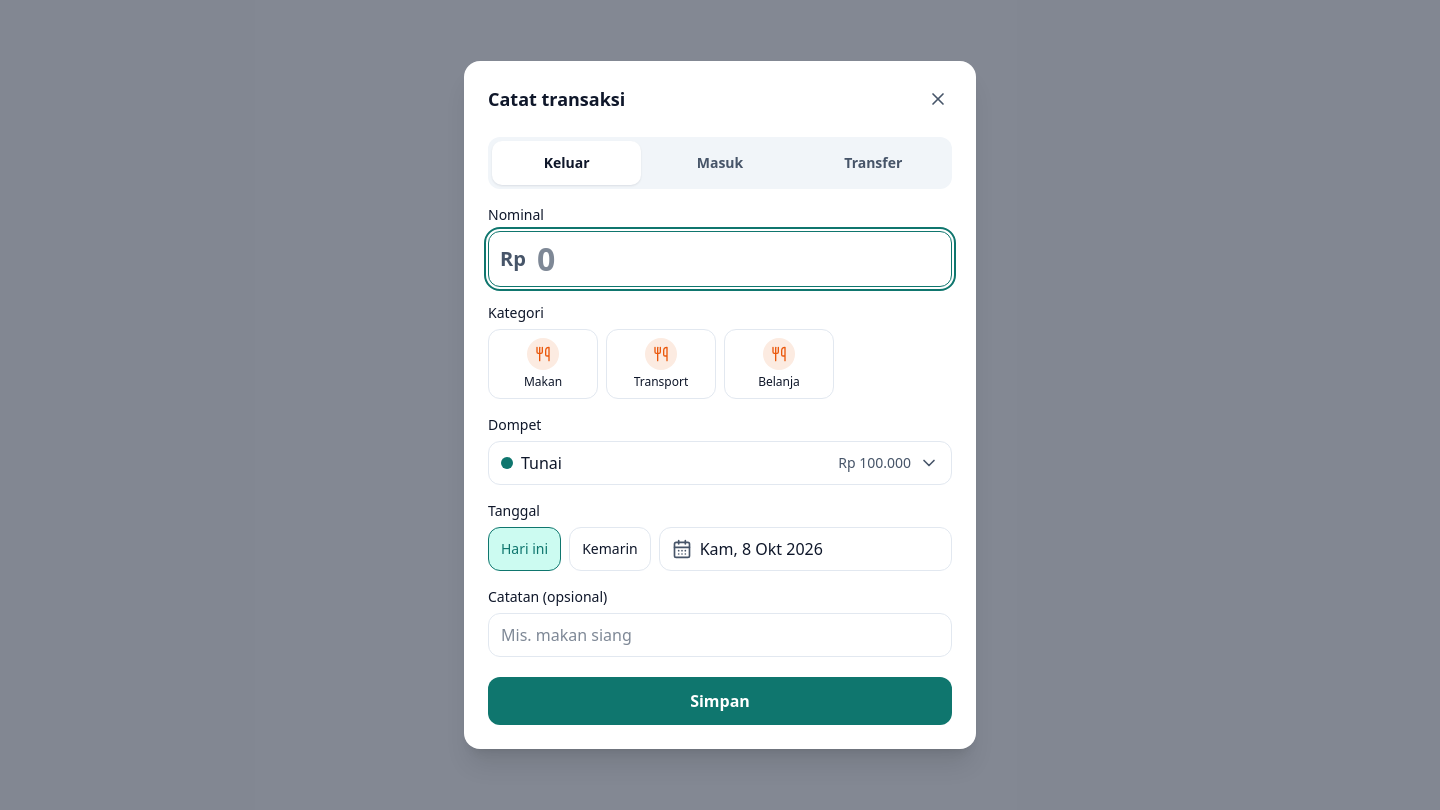
Test case: saran kategori di form transaksi › pilihan manual tidak ditimpa; saran muncul sebagai tombol satu tap
The width and height of the screenshot is (1440, 810).
expect the field labelled "Nominal" is shown: met, box 488,231 -> 952,287
expect the element "Kategori" is shown: met, box 488,303 -> 834,399
Click the radio button labelled "Makan" at (543, 364), box 488,329 -> 598,399
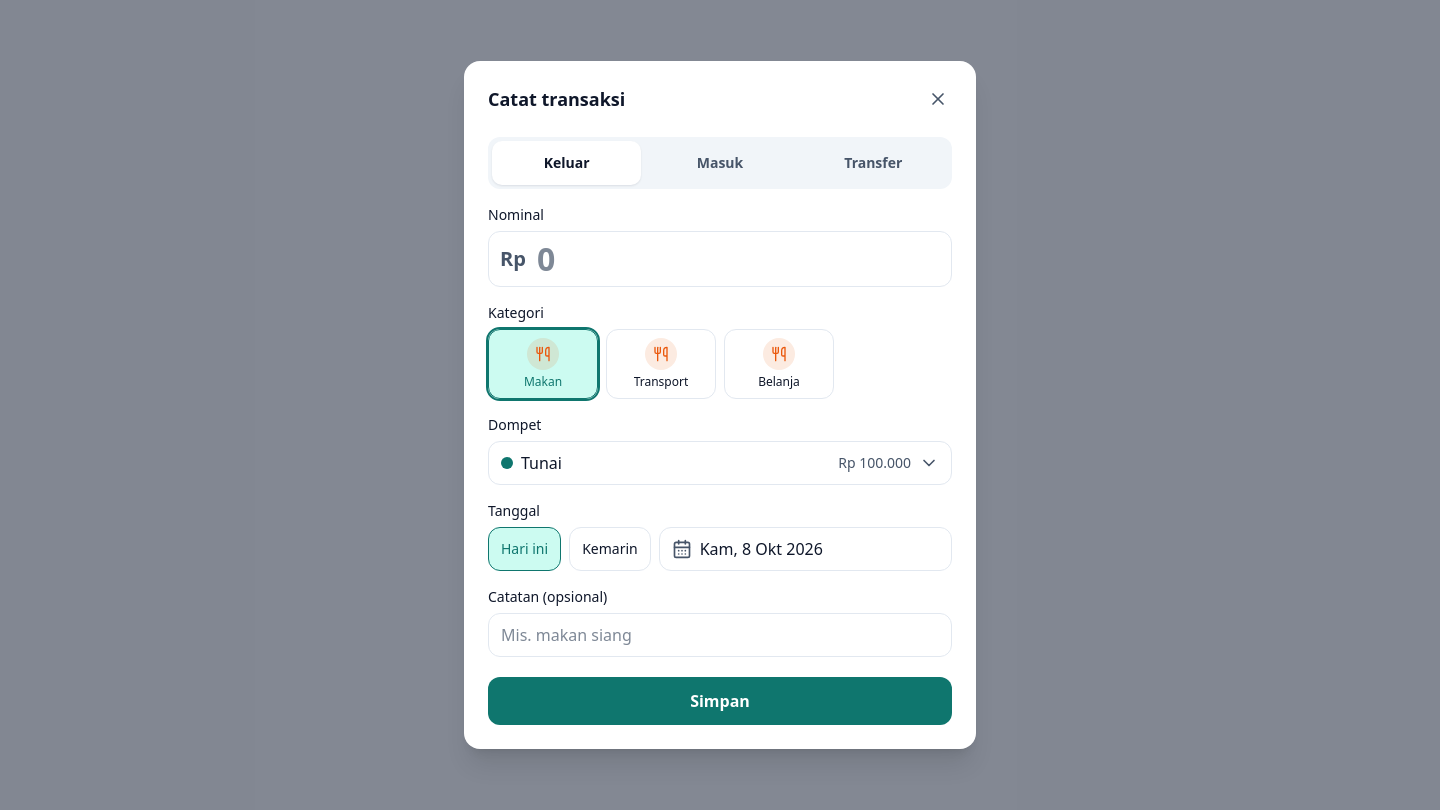
Type "Parkir mall" into the text box labelled "Catatan (opsional)" at (720, 635), box 488,613 -> 952,657
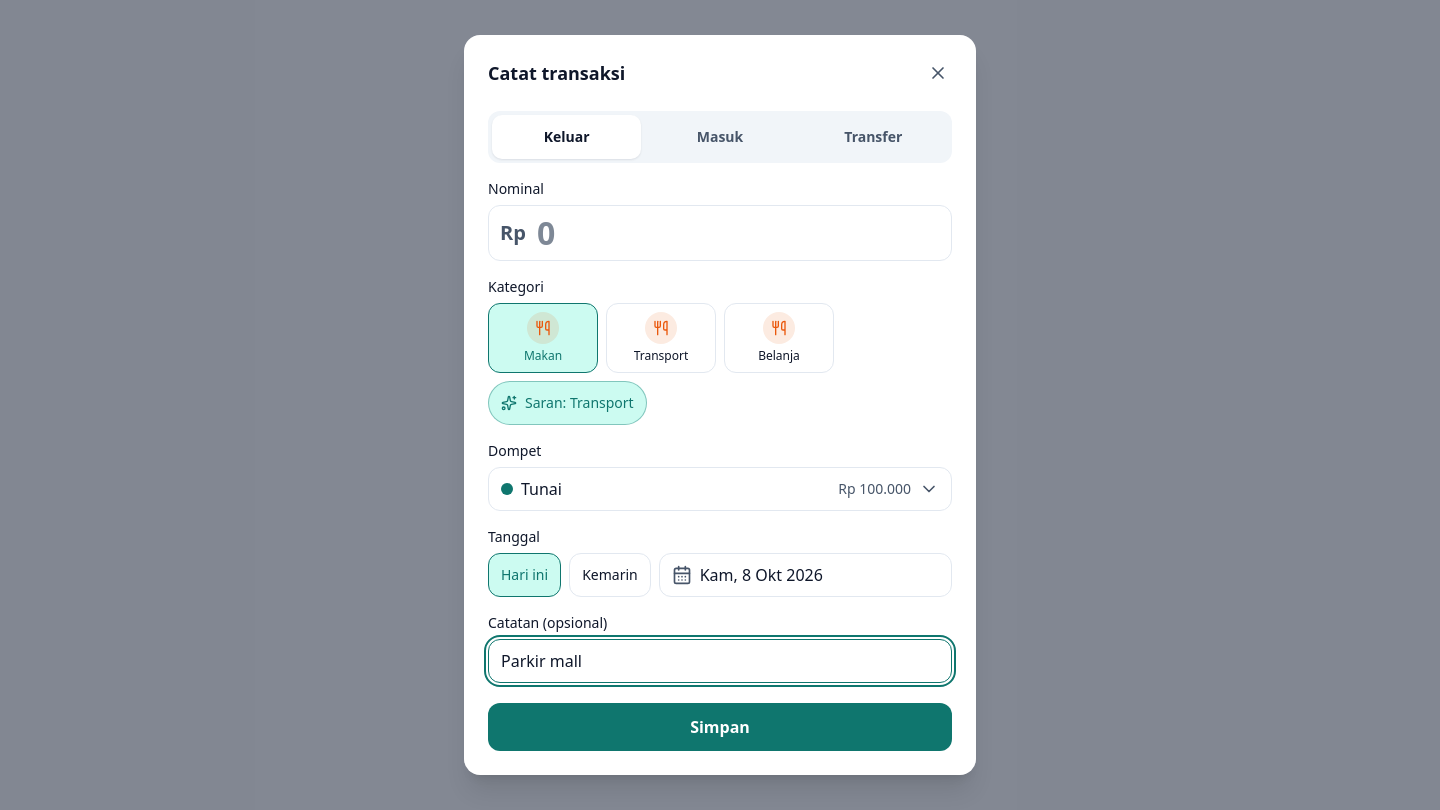
expect the radio button labelled "Makan" is checked: met, box 488,303 -> 598,373
Click the button "Saran: Transport" at (567, 403), box 488,381 -> 647,425
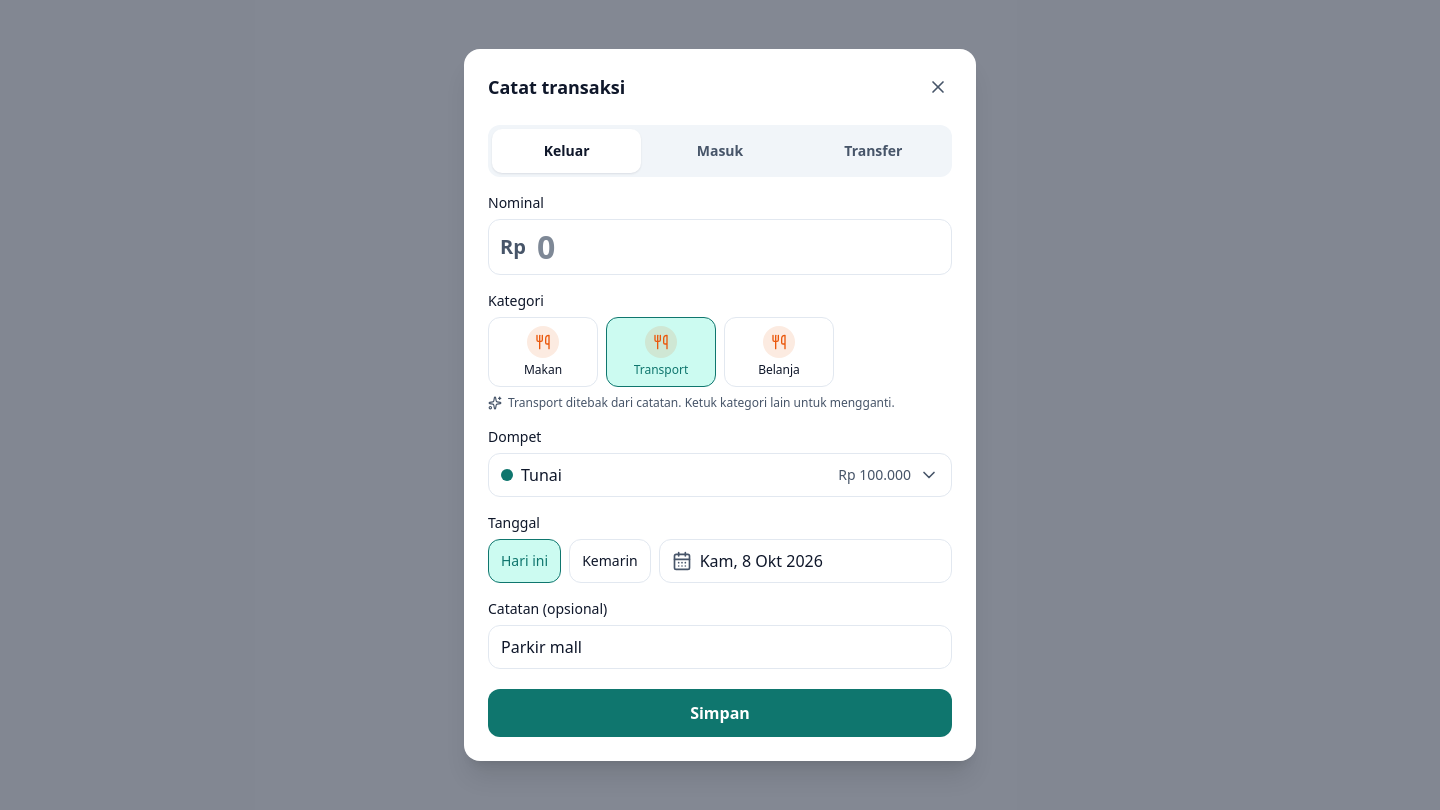
expect the radio button labelled "Transport" is checked: met, box 606,317 -> 716,387
expect the button "Saran:" is gone: met
